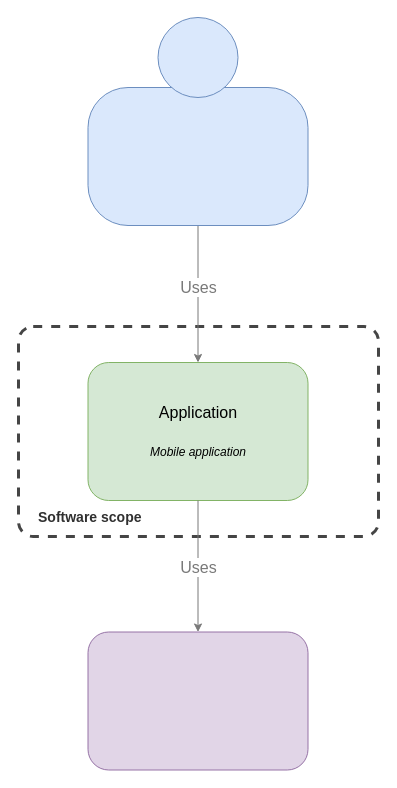
Image size: 397x788. Some labels were removed from this diagram. Each missing label, with the box of its shape:
{Name of API} Backend services: (87, 631, 308, 770)
{Type of user} Principal user of the software: (87, 86, 308, 226)
